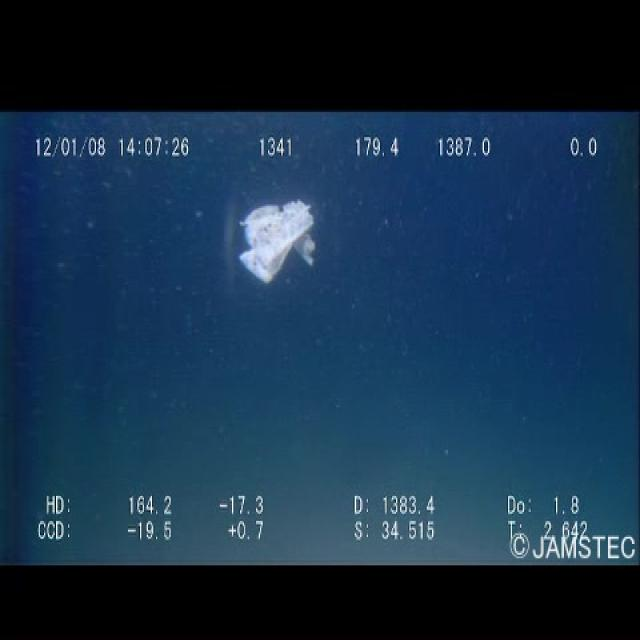plastic: (233, 188, 323, 294)
